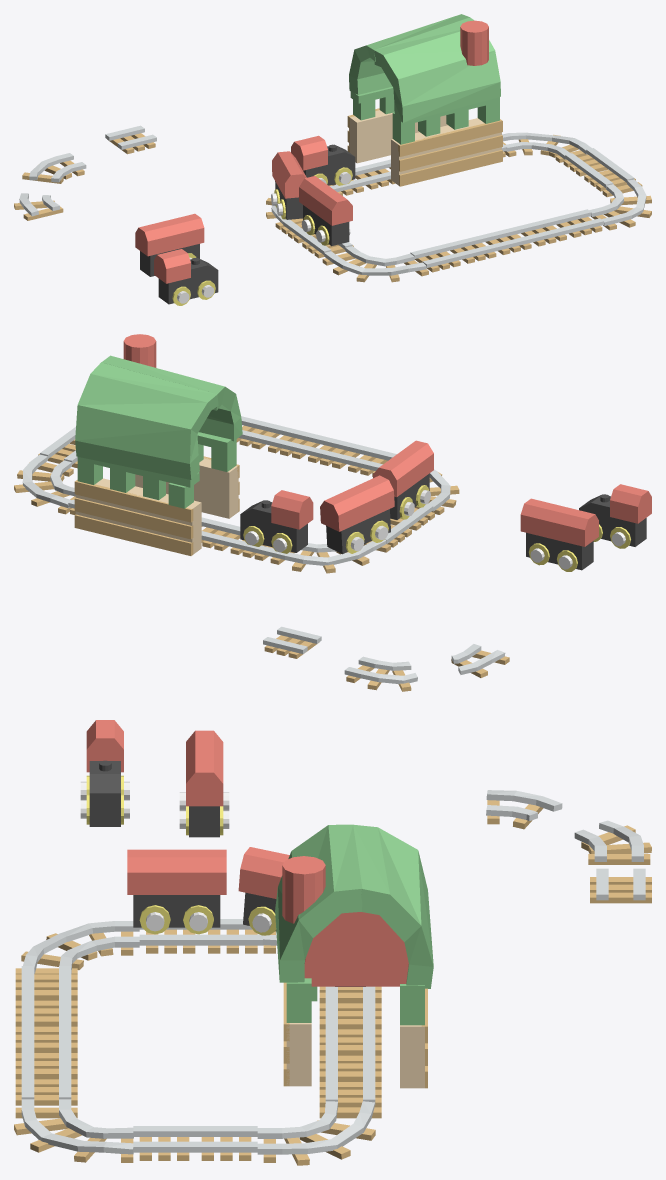
Rendered from Toytrain.fbx.
3 views of the same model, one above another, from view 1: azimuth 30°, elevation 25°; view 2: azimuth 150°, elevation 25°; view 3: azimuth 270°, elevation 25° (orthographic). The views are drawn at different scales.
Visible parts, largest first — view 1: station, train, trackCurved.002, trackStraight, trackCurved.001; view 2: station, train, trackCurved.002, trackStraight, trackCurved.001; view 3: station, train, trackCurved.002, trackStraight, trackCurved.001.
Part boxes in pixels (left/top/right/bottom): station: left=266, top=14, right=651, bottom=282; train: left=135, top=213, right=218, bottom=305; trackCurved.002: left=22, top=153, right=86, bottom=183; trackStraight: left=105, top=125, right=156, bottom=154; trackCurved.001: left=14, top=193, right=63, bottom=220; station: left=14, top=334, right=459, bottom=573; train: left=520, top=484, right=651, bottom=571; trackCurved.002: left=344, top=656, right=417, bottom=691; trackStraight: left=263, top=626, right=321, bottom=658; trackCurved.001: left=451, top=644, right=509, bottom=677; station: left=14, top=824, right=433, bottom=1165; train: left=80, top=720, right=229, bottom=837; trackCurved.002: left=574, top=820, right=651, bottom=864; trackStraight: left=590, top=868, right=651, bottom=903; trackCurved.001: left=486, top=790, right=562, bottom=829.
Bounding box in the file's own units: 140 × 39.48 × 103.
